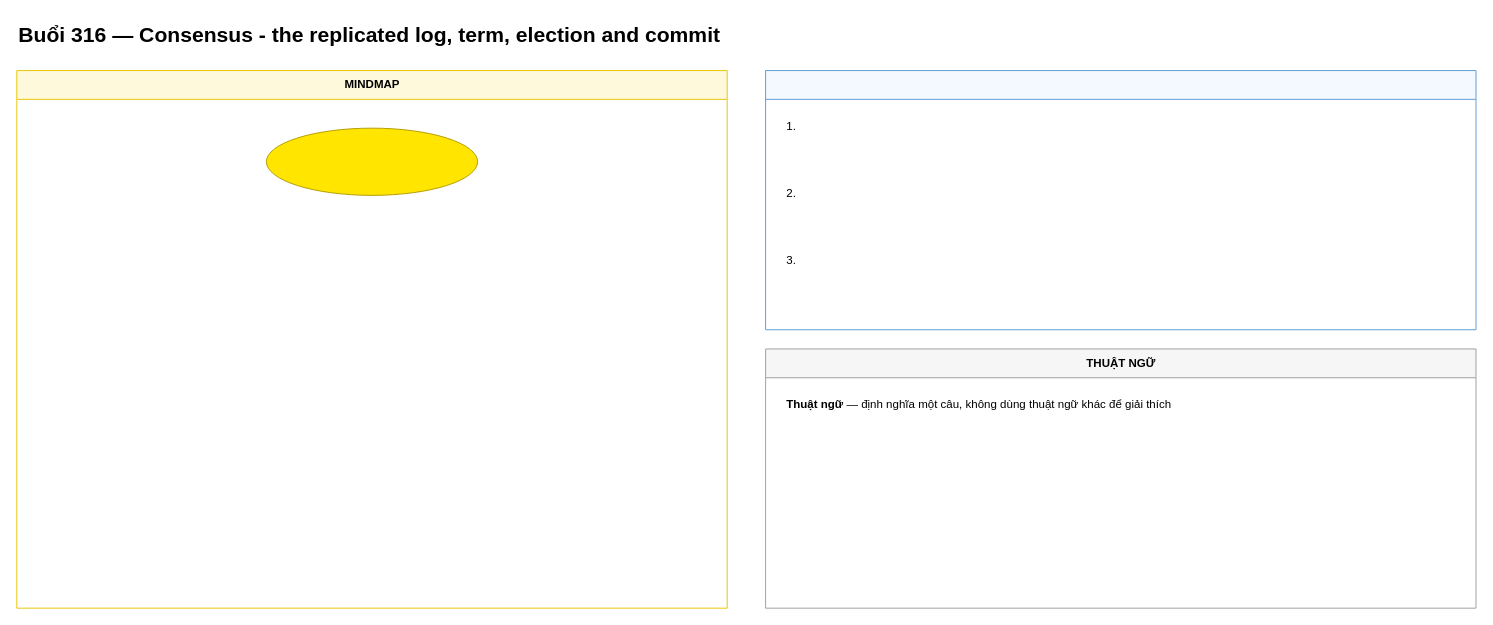
This 1493x625 diagram has some shape labels left out. The shapes that lost their labels are listed below. From the top down, each one's box as (x1, y1, x2, y2) in pixels, then its label:
(265, 127, 478, 195): Consensus - the replicated log, term, election and commit
(765, 70, 1476, 330): KEY TAKEAWAY — ba điều phải nhớ
